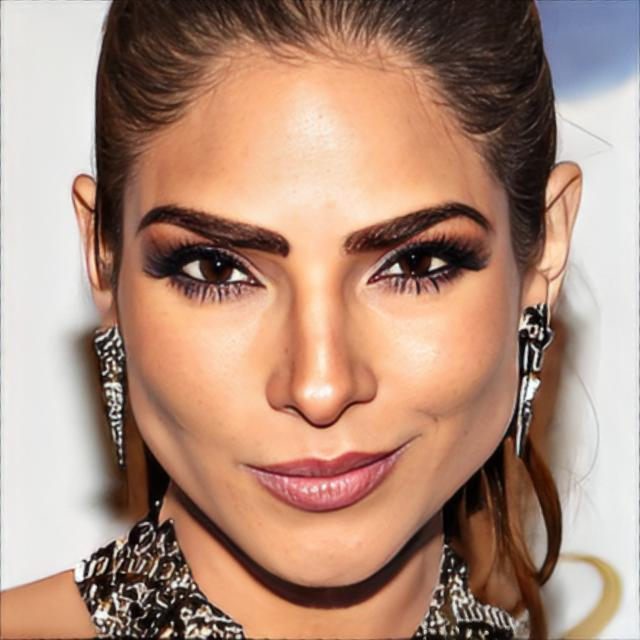content: (119, 58, 524, 590)
